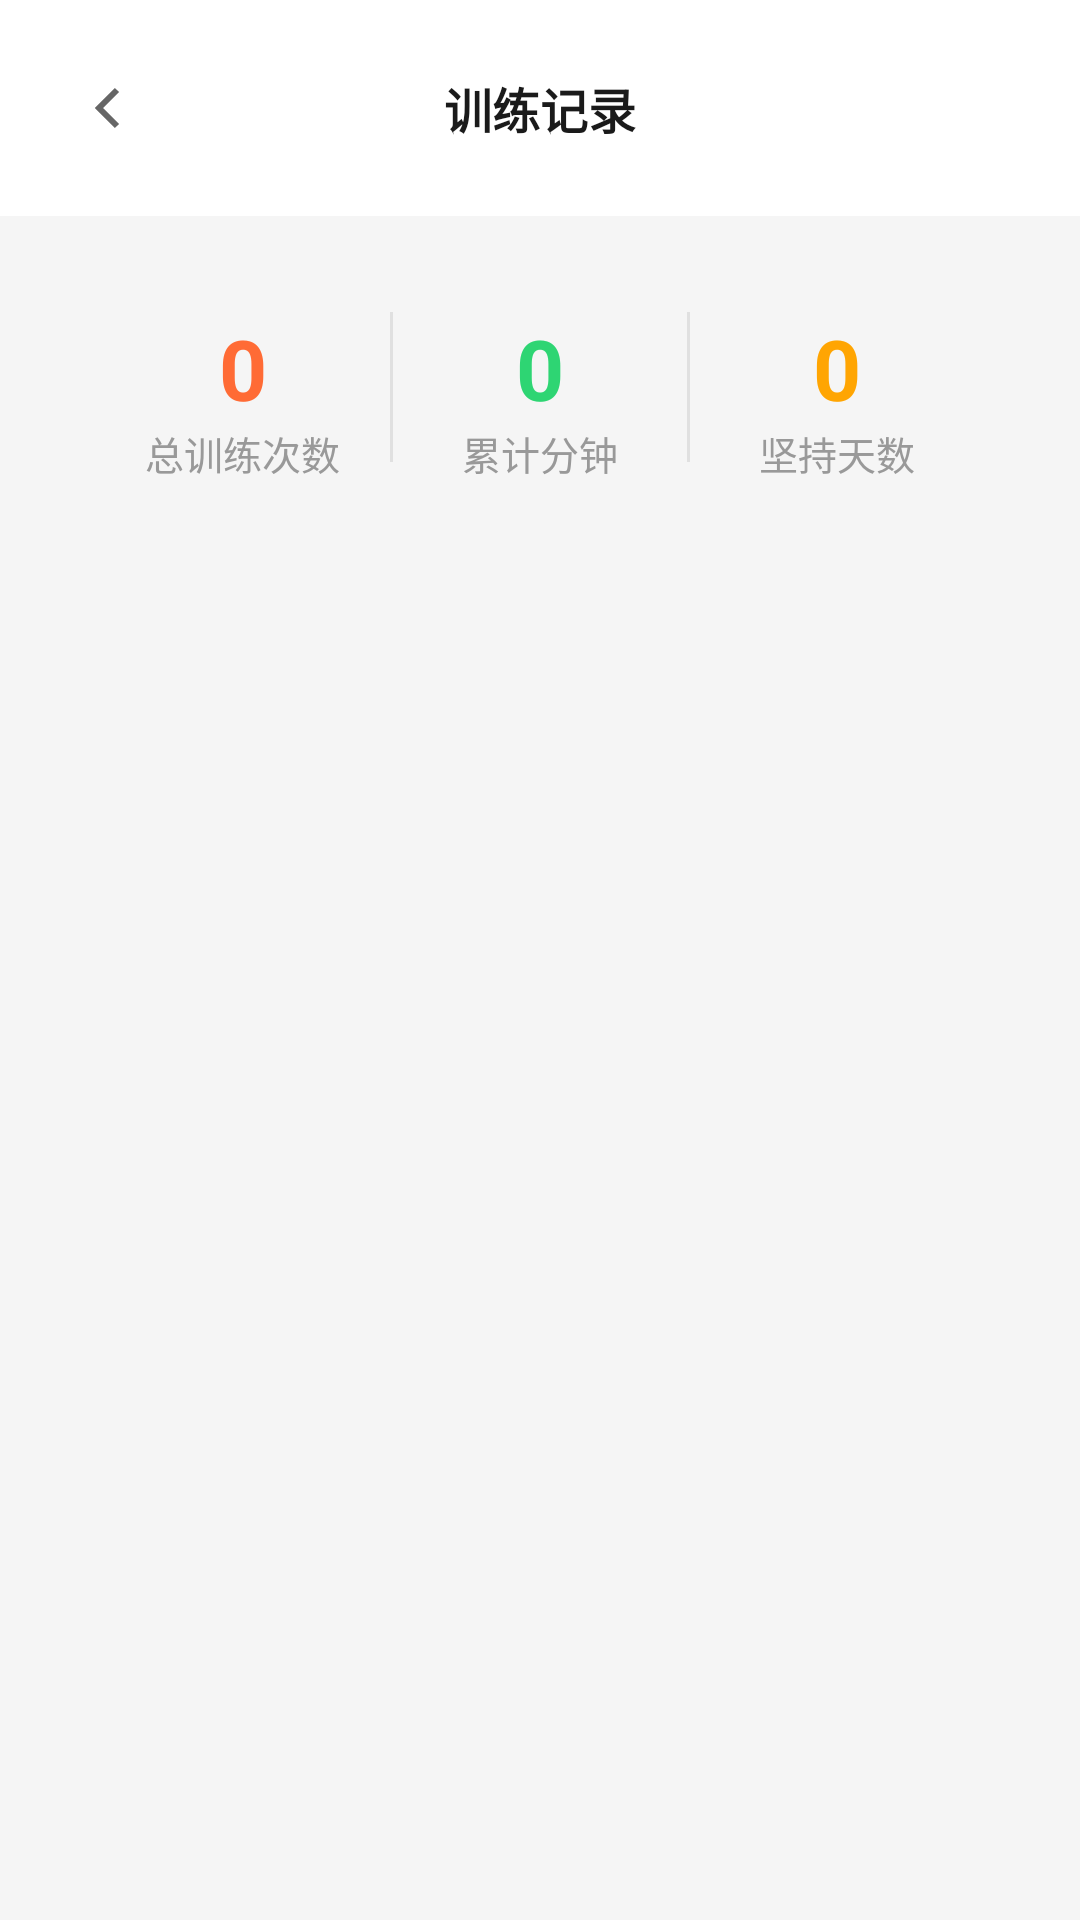

Named icons in this screenshot (1080w x 1920h) and their centers, (x,y):
返回: (107,108)
